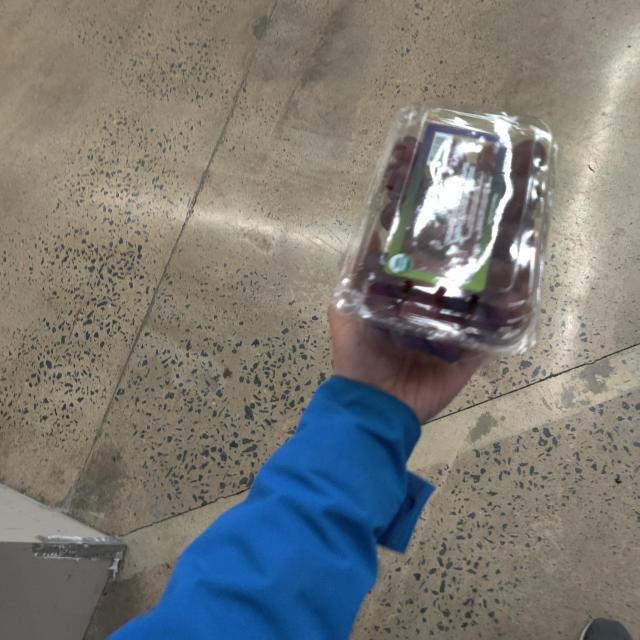Grapes: (340, 105, 555, 361)
